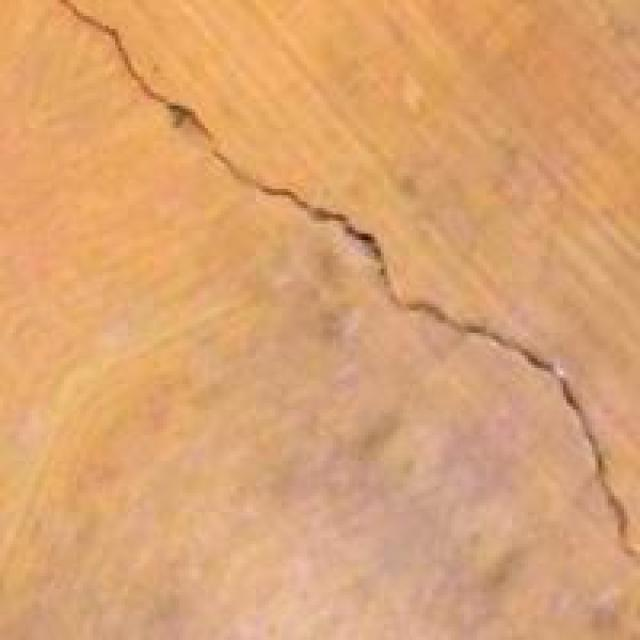crack: (38, 0, 637, 602)
